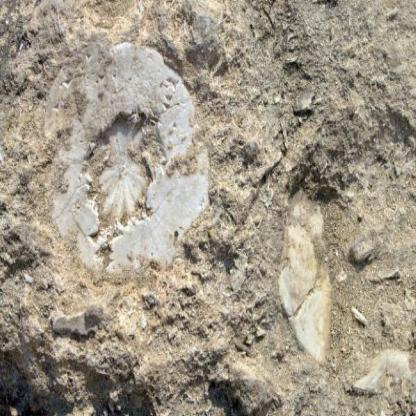Sedimentary_Limestone: (0, 1, 414, 415)
